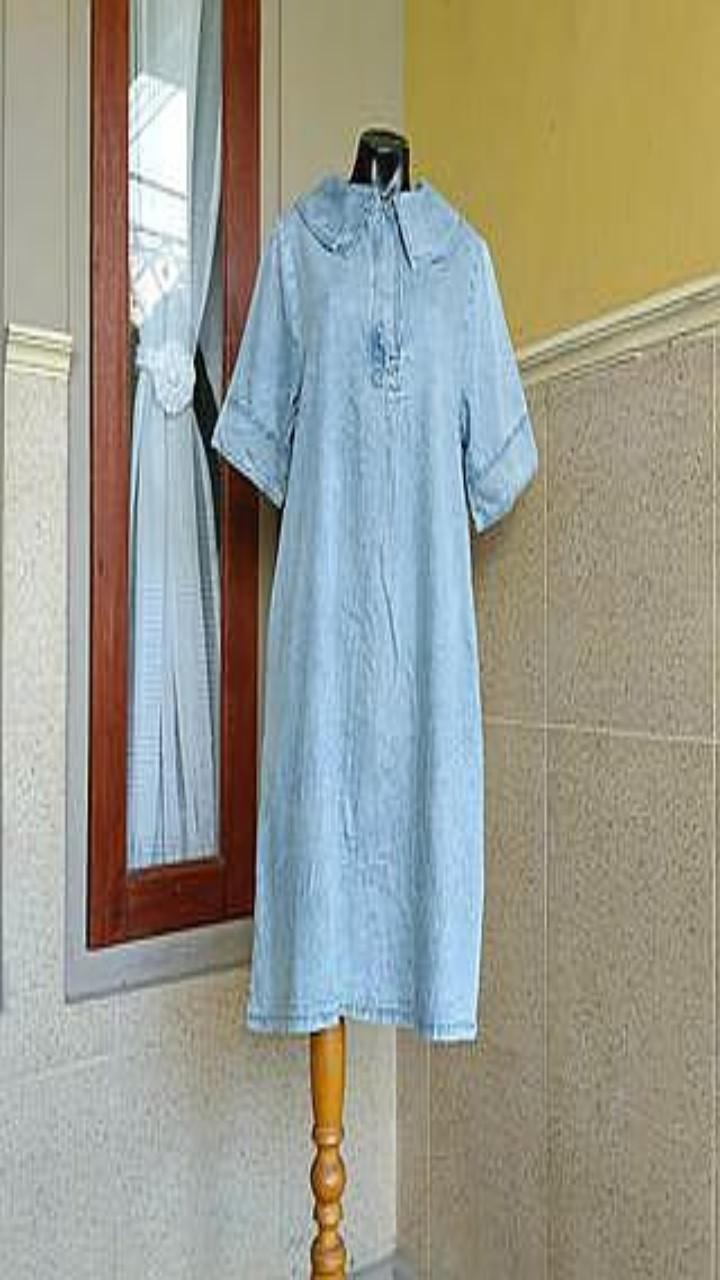Dresses: (213, 175, 537, 1039)
